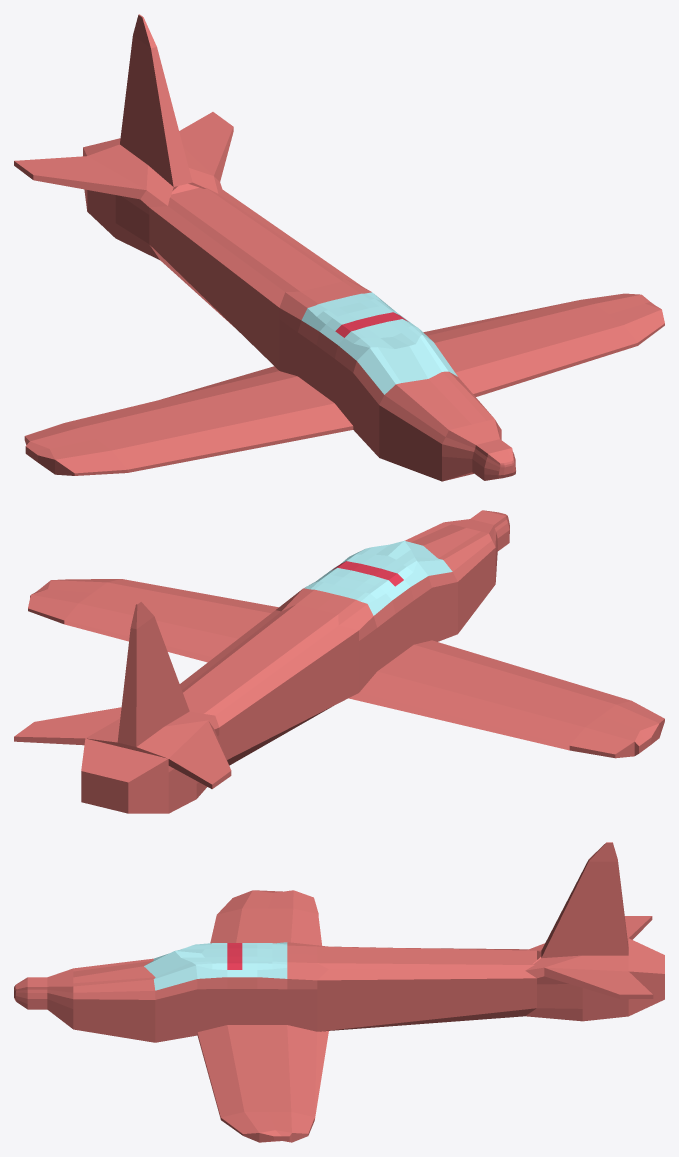
3 views of the same model, one above another, from view 1: azimuth 30°, elevation 25°; view 2: azimuth 150°, elevation 25°; view 3: azimuth 270°, elevation 25° (orthographic). The views are drawn at different scales.
Parts seen in each view (by area): view 1: Cube; view 2: Cube; view 3: Cube.
Part boxes in pixels (x1=…): Cube: x1=14, y1=14, x2=664, y2=481; Cube: x1=14, y1=510, x2=664, y2=813; Cube: x1=14, y1=842, x2=664, y2=1142.
Size of the model in its own units: 14.68 by 5.15 by 16.54.
